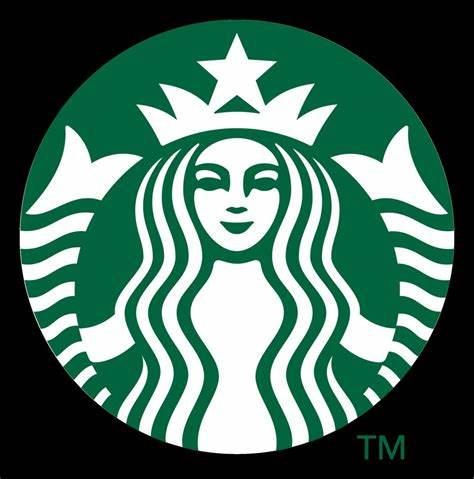starbucks Originale: (4, 4, 467, 471)
